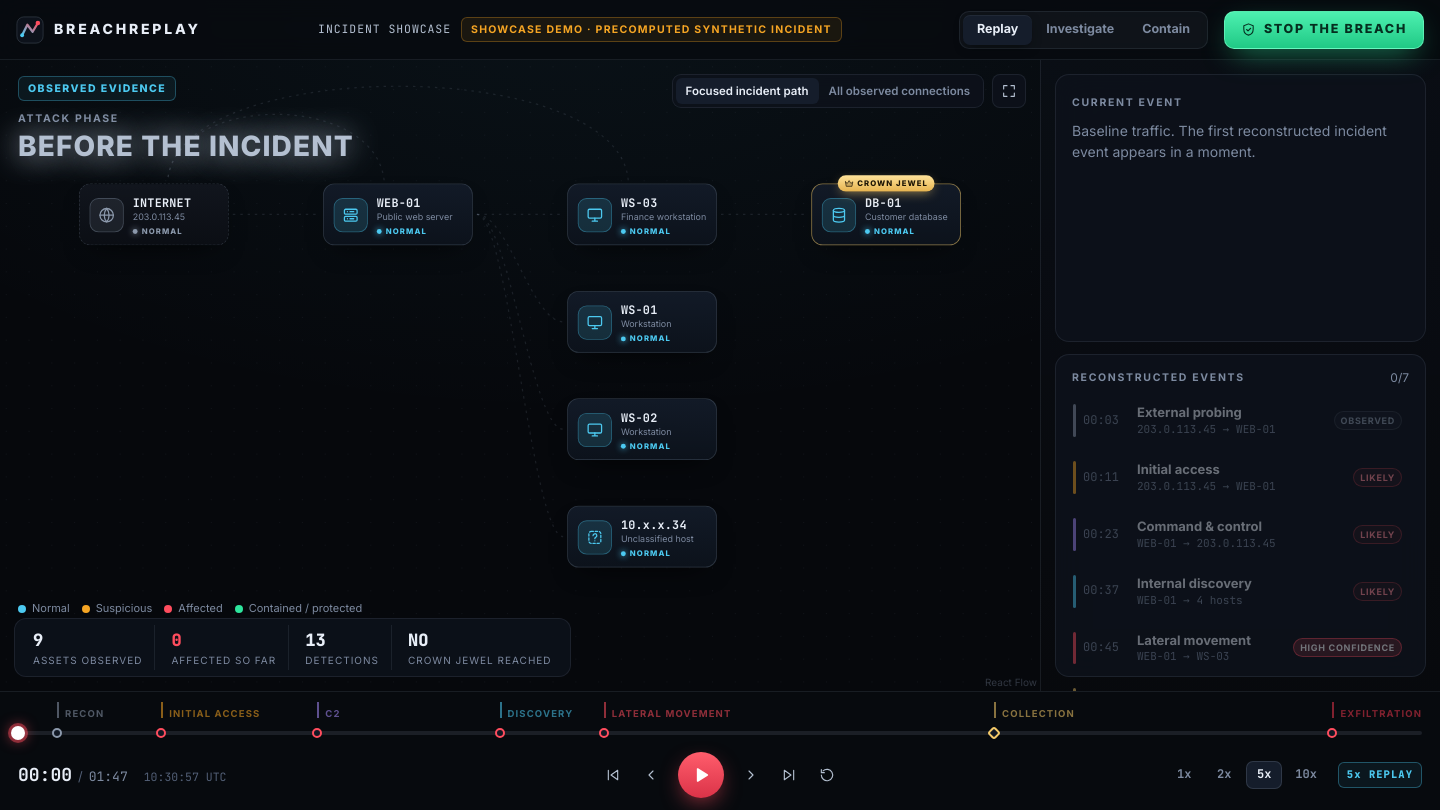
Test: IncidentView › changes replay speed and shows the speed badge
Expected: the text with test id "speed-badge" reads "5x REPLAY", x1=1338 y1=762 x2=1422 y2=788
Click the button "10x".
click(1306, 775)  # box x1=1286 y1=761 x2=1326 y2=789
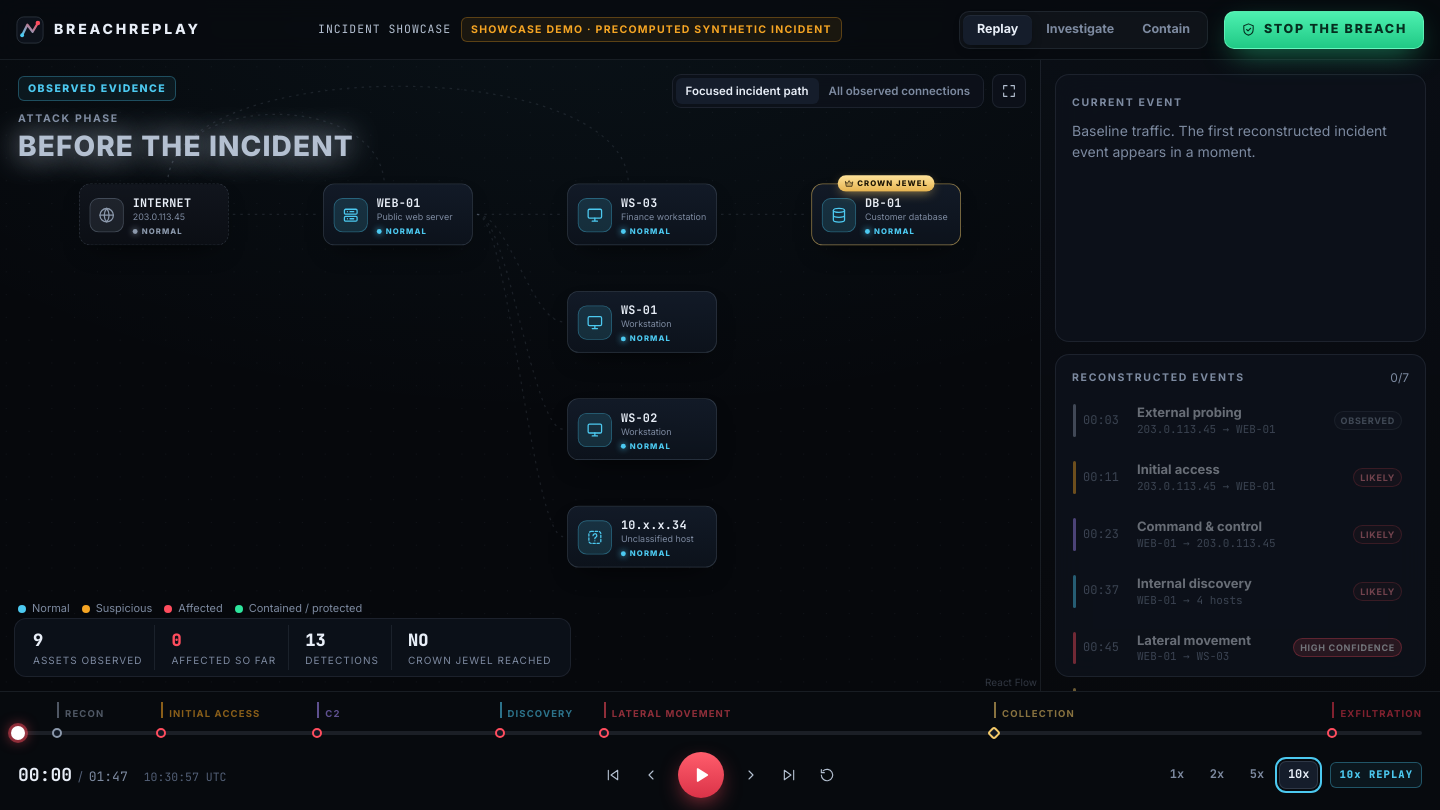
Now the text with test id "speed-badge" reads "10x REPLAY", box x1=1330 y1=762 x2=1422 y2=788
